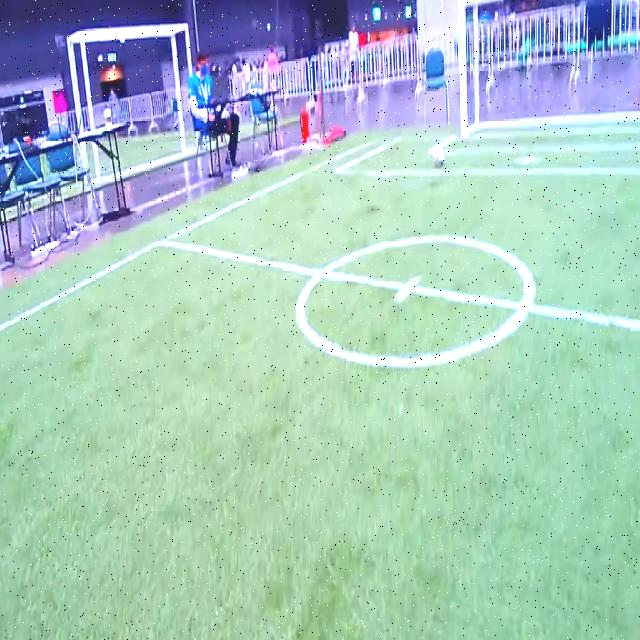ball: (431, 146, 444, 169)
